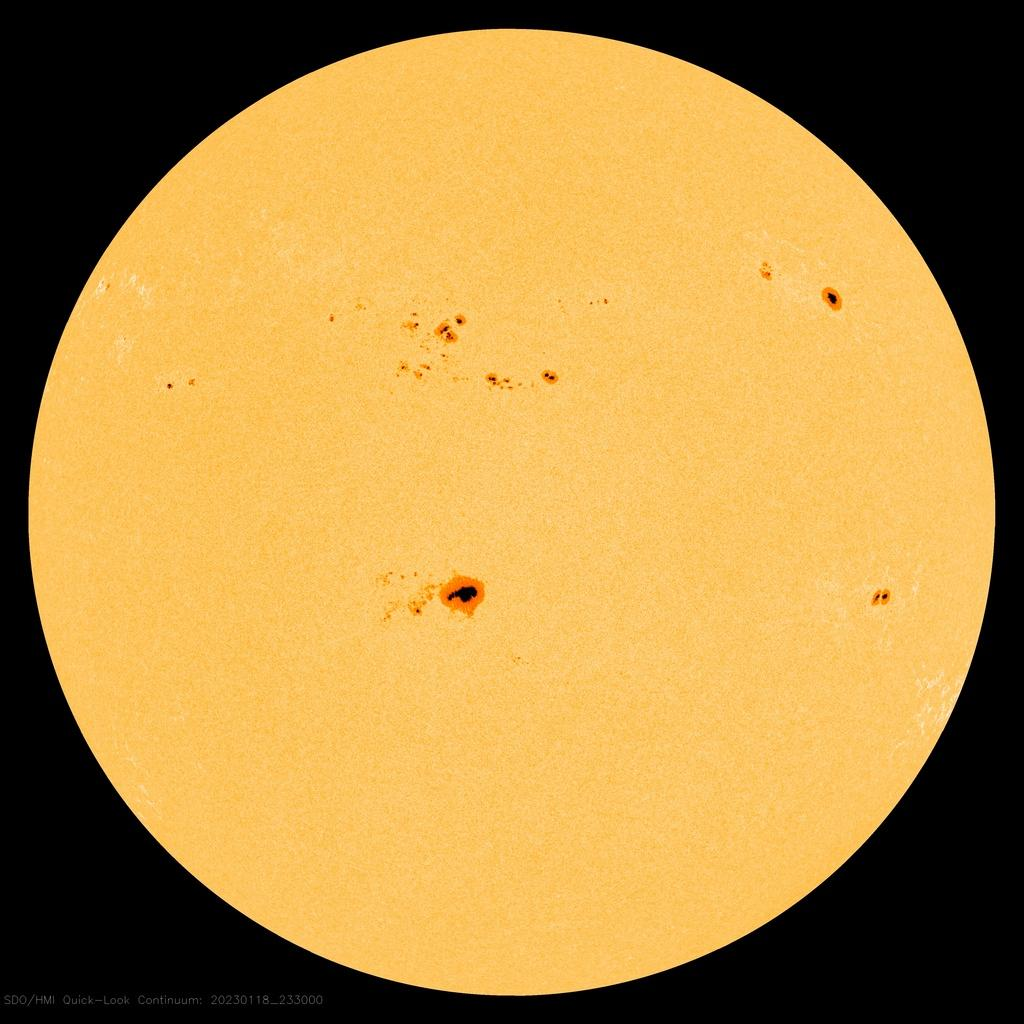flare: (322, 284, 621, 406), (365, 554, 498, 644), (157, 365, 209, 401), (860, 577, 903, 619)
